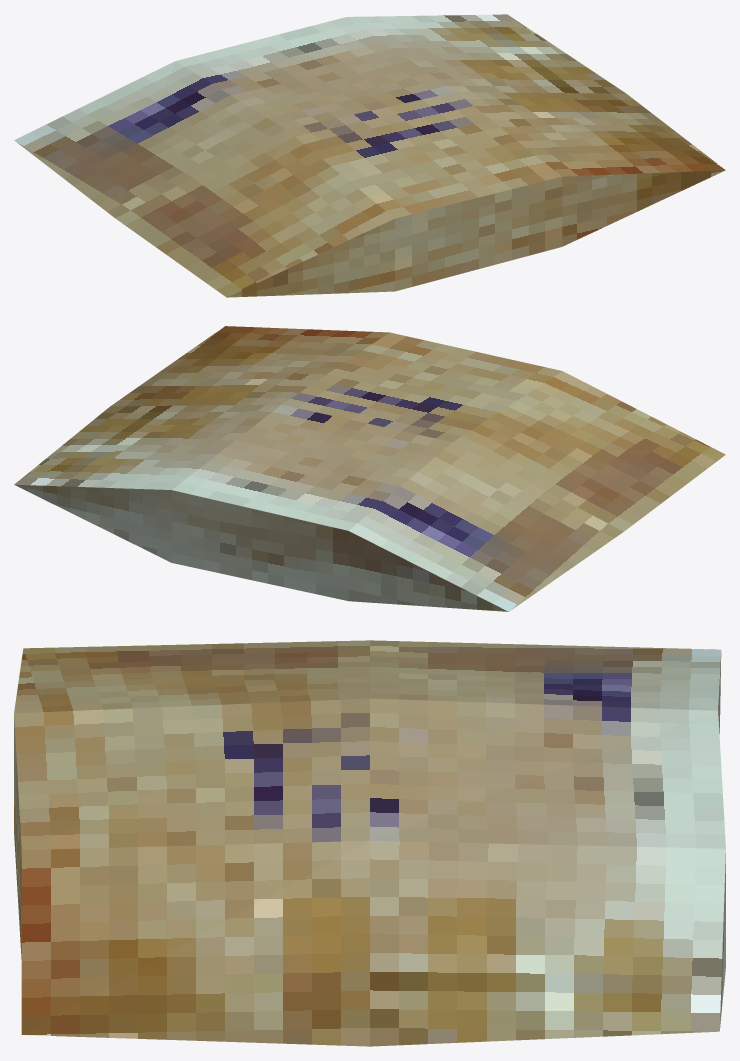
File: Package01.obj
3 views of the same model, one above another, from view 1: azimuth 30°, elevation 25°; view 2: azimuth 150°, elevation 25°; view 3: azimuth 270°, elevation 25° (orthographic). The views are drawn at different scales.
Visible parts, largest first — view 1: Package01; view 2: Package01; view 3: Package01.
Boxes of the visible parts, bbox=[...] form: Package01: bbox=[14, 14, 725, 297]; Package01: bbox=[14, 326, 725, 611]; Package01: bbox=[14, 640, 725, 1046].
Bounding box in the file's own units: 0.6328 × 0.1032 × 0.4688.
